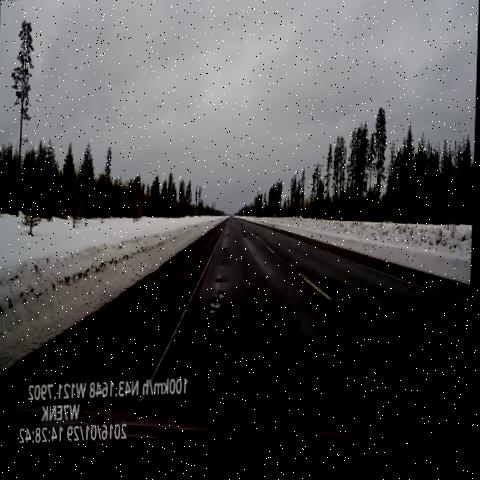pothole: (206, 290, 231, 344), (333, 276, 356, 302), (218, 247, 236, 273), (213, 275, 233, 296), (240, 225, 252, 248), (226, 227, 234, 243)
